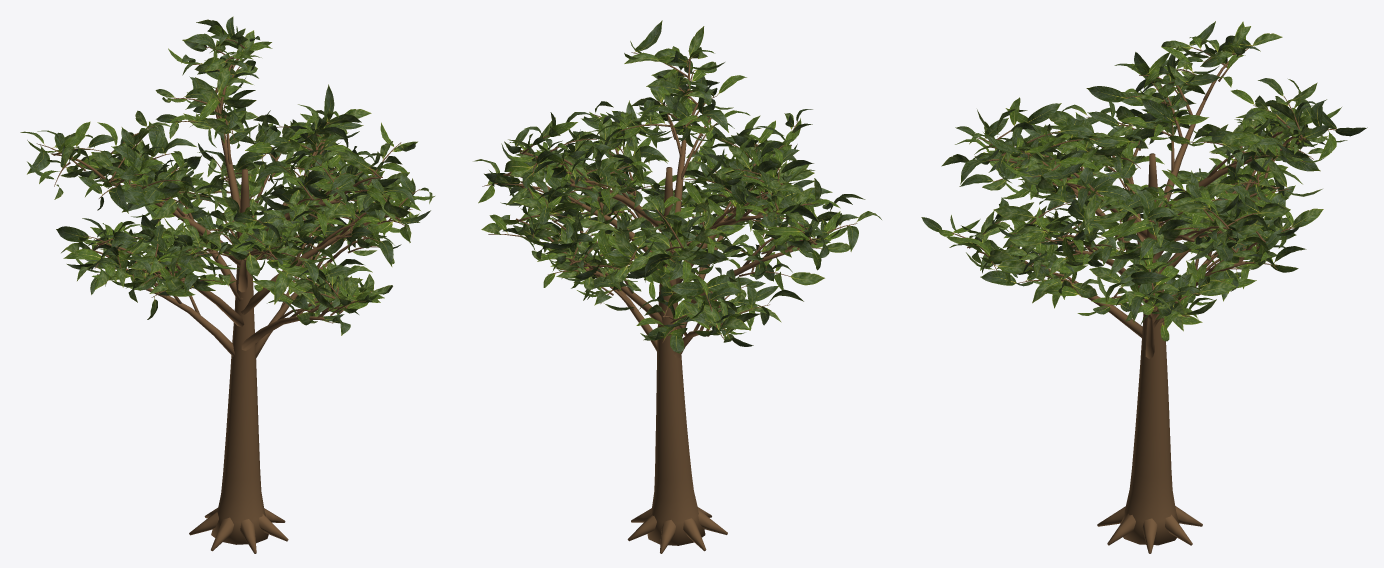
File: canopy.glb
3 views of the same model, side by side, from view 1: azimuth 30°, elevation 25°; view 2: azimuth 150°, elevation 25°; view 3: azimuth 270°, elevation 25° (orthographic). The views are drawn at different scales.
Visible parts, largest first — view 1: canopy • curled atlas leaves, canopy • hierarchical woody structure; view 2: canopy • curled atlas leaves, canopy • hierarchical woody structure; view 3: canopy • curled atlas leaves, canopy • hierarchical woody structure.
Boxes of the visible parts, x1,y1,x2,y2 form: canopy • curled atlas leaves: (20, 16, 434, 335); canopy • hierarchical woody structure: (36, 39, 419, 553); canopy • curled atlas leaves: (473, 20, 881, 353); canopy • hierarchical woody structure: (482, 52, 857, 553); canopy • curled atlas leaves: (921, 21, 1367, 341); canopy • hierarchical woody structure: (952, 45, 1336, 553).
Size of the model in its own units: 3.71 by 4.57 by 3.89.
Materials: 2 (1 with a texture image).
